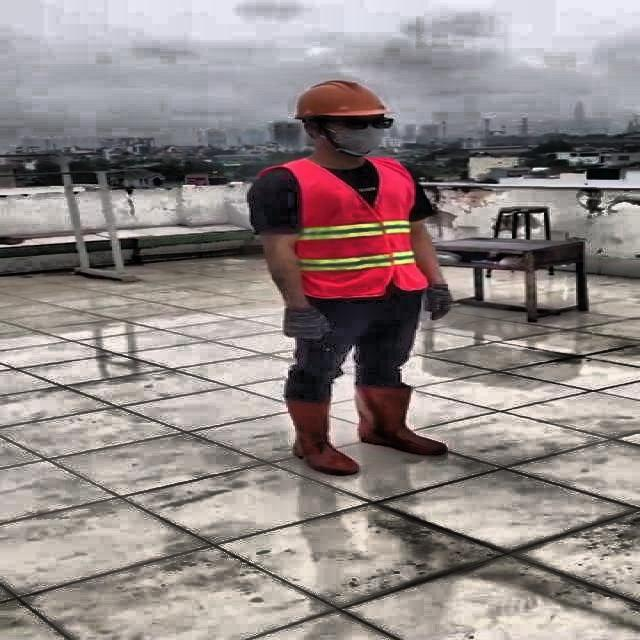safety_jacket: (264, 156, 428, 299)
